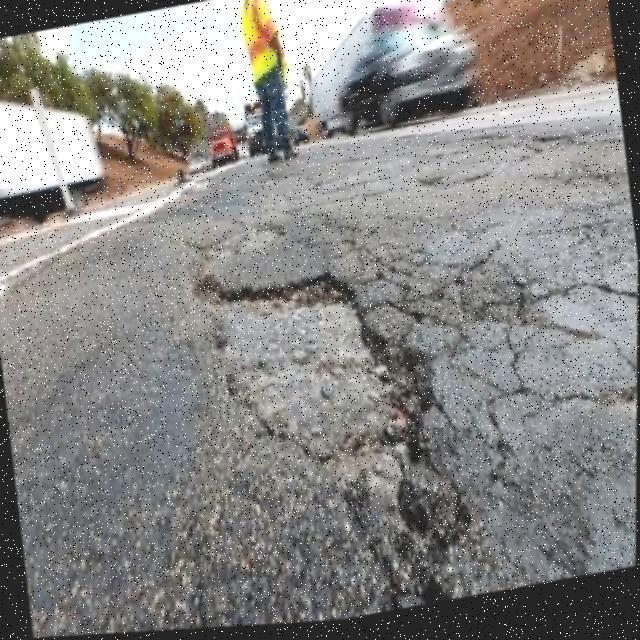pothole: (188, 235, 448, 508)
